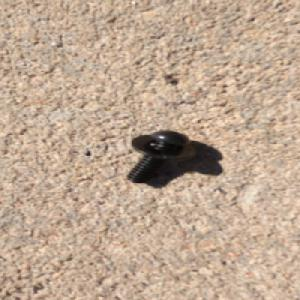BoltWasher: (124, 129, 198, 183)
